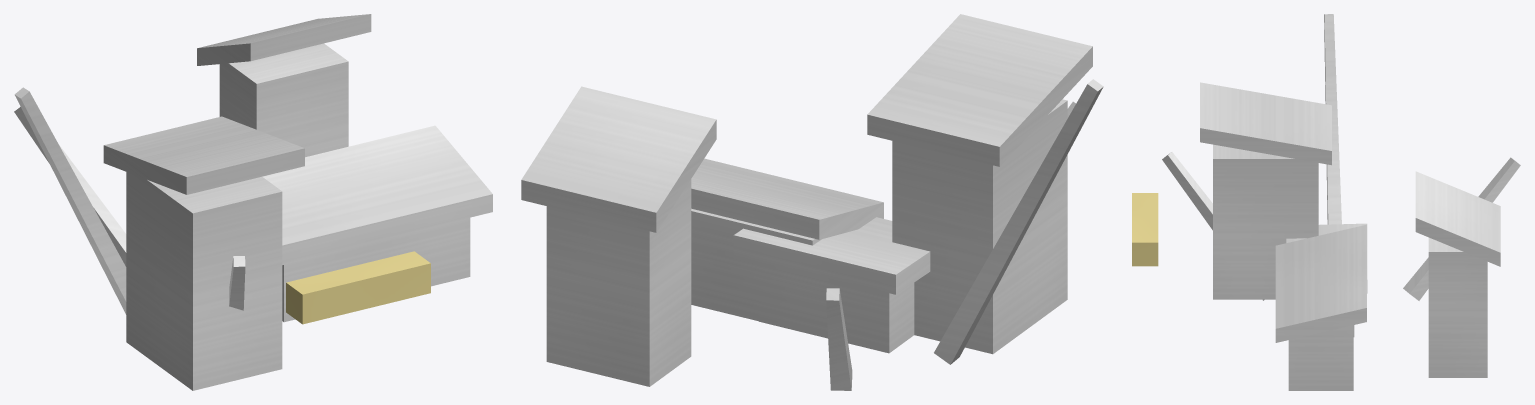
Rendered from ship_chunk_2.obj.
The picture shows the model from 3 angles, left to right: view 1: azimuth 30°, elevation 25°; view 2: azimuth 150°, elevation 25°; view 3: azimuth 270°, elevation 25°; orthographic projection. The views are drawn at different scales.
Visible parts, largest first — view 1: ship_chunk_2; view 2: ship_chunk_2; view 3: ship_chunk_2.
Boxes of the visible parts, box(x1,y1,x2,y2) form: ship_chunk_2: box(14, 14, 492, 390); ship_chunk_2: box(521, 14, 1103, 390); ship_chunk_2: box(1132, 14, 1520, 390).
Size of the model in its own units: 1.55 by 0.9269 by 1.49.
